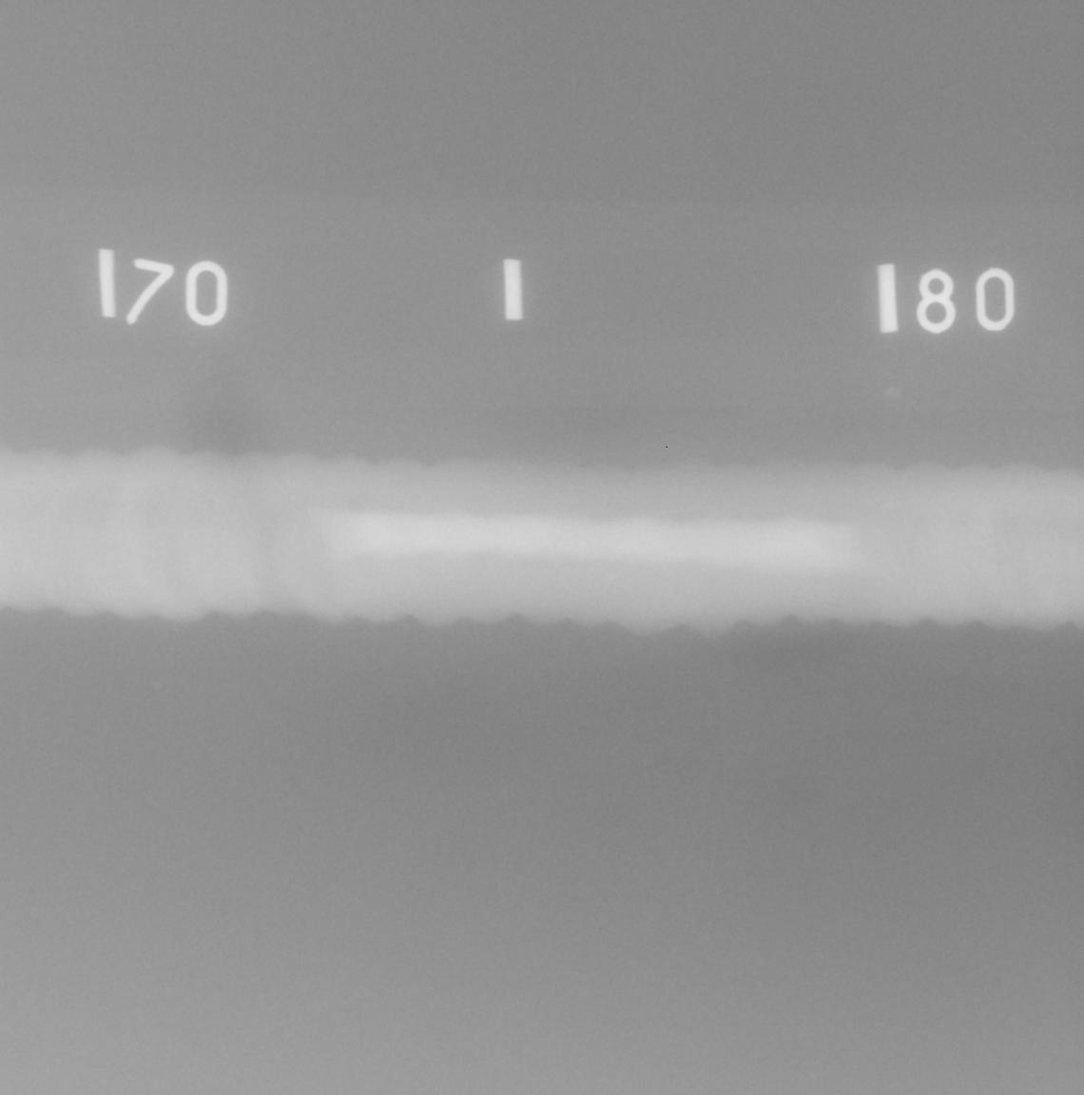Pore/Porosity: (918, 516, 925, 522)
